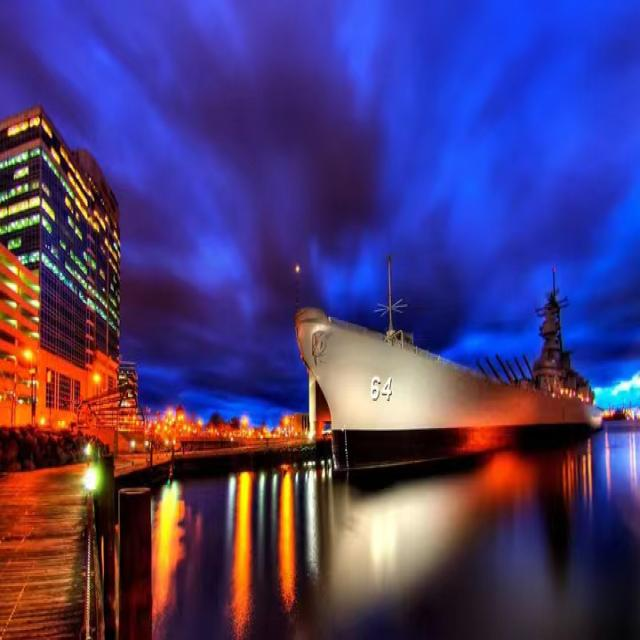navalvessels: (284, 272, 607, 467)
